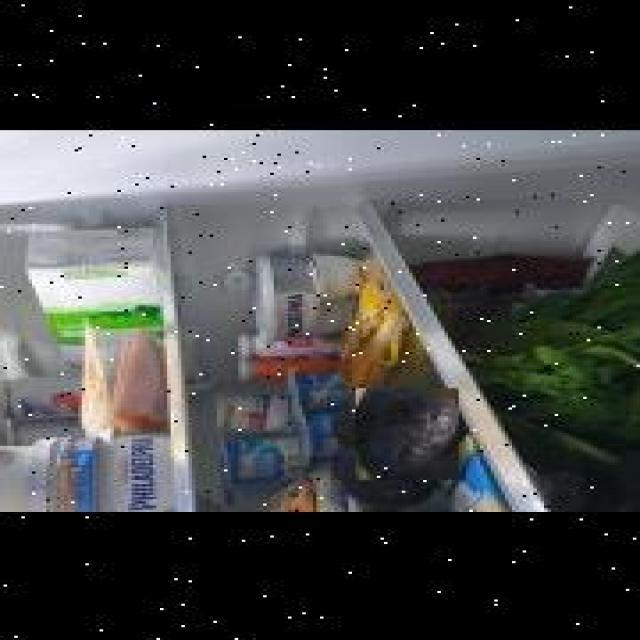avocado: (356, 386, 458, 478)
milk: (30, 220, 162, 365)
pak_choi: (508, 226, 640, 465)
sausage: (0, 213, 71, 354)
yogurt: (216, 428, 302, 488), (214, 392, 292, 430)
